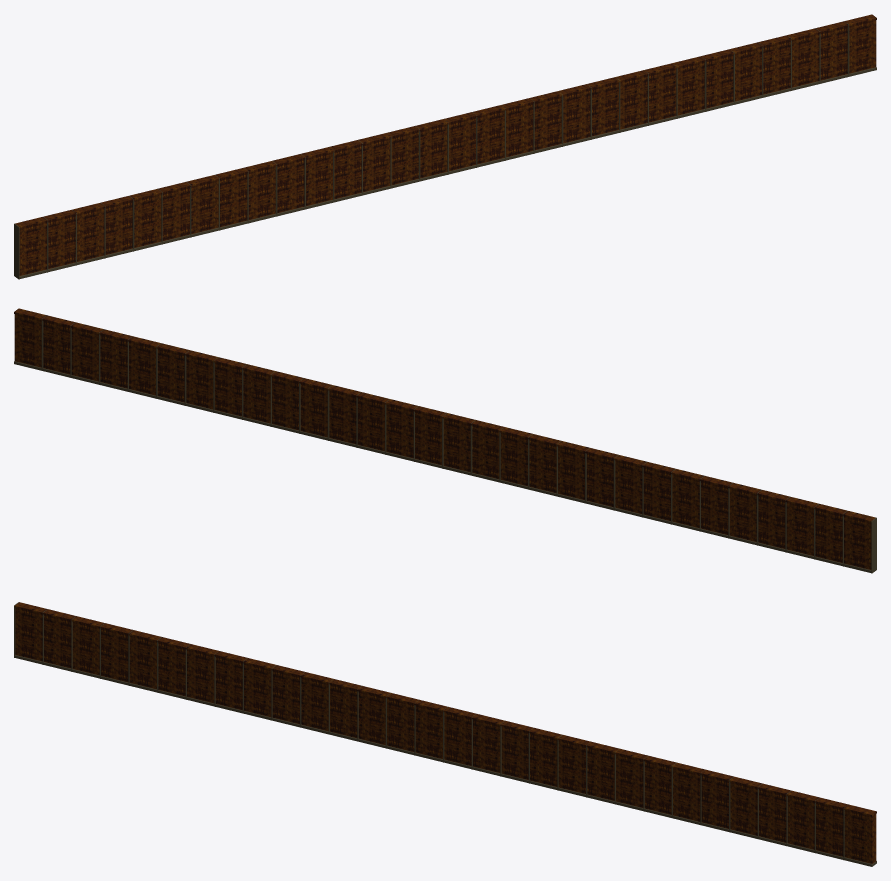
Rendered from phase_normal_gate.glb.
3 views of the same model, one above another, from view 1: azimuth 30°, elevation 25°; view 2: azimuth 150°, elevation 25°; view 3: azimuth 330°, elevation 25° (orthographic).
Parts seen in each view (by area): view 1: PHASE_top_rail, PHASE_concrete_sill, PHASE_rusted_panel.021, PHASE_rusted_panel.023, PHASE_rusted_panel.024, PHASE_rusted_panel.001, PHASE_rusted_panel.002, PHASE_rusted_panel.004, PHASE_rusted_panel.005, PHASE_rusted_panel.007, PHASE_rusted_panel.008, PHASE_rusted_panel.011 (+20 smaller); view 2: PHASE_top_rail, PHASE_concrete_sill, PHASE_rusted_panel.021, PHASE_rusted_panel.023, PHASE_rusted_panel.024, PHASE_rusted_panel.001, PHASE_rusted_panel.002, PHASE_rusted_panel.004, PHASE_rusted_panel.005, PHASE_rusted_panel.007, PHASE_rusted_panel.008, PHASE_rusted_panel.011 (+20 smaller); view 3: PHASE_top_rail, PHASE_concrete_sill, PHASE_rusted_panel.029, PHASE_rusted_panel.020, PHASE_rusted_panel.022, PHASE_rusted_panel.023, PHASE_rusted_panel, PHASE_rusted_panel.001, PHASE_rusted_panel.003, PHASE_rusted_panel.004, PHASE_rusted_panel.005, PHASE_rusted_panel.006 (+20 smaller).
Part boxes in pixels (x1,y1,x2,y2): PHASE_top_rail: [15, 14, 876, 228]; PHASE_concrete_sill: [19, 67, 876, 278]; PHASE_rusted_panel.021: [620, 76, 647, 129]; PHASE_rusted_panel.023: [677, 62, 704, 115]; PHASE_rusted_panel.024: [706, 55, 733, 108]; PHASE_rusted_panel.001: [48, 215, 75, 268]; PHASE_rusted_panel.002: [77, 208, 104, 261]; PHASE_rusted_panel.004: [134, 194, 161, 247]; PHASE_rusted_panel.005: [162, 187, 189, 240]; PHASE_rusted_panel.007: [220, 173, 247, 227]; PHASE_rusted_panel.008: [248, 166, 275, 219]; PHASE_rusted_panel.011: [334, 145, 361, 199]; PHASE_top_rail: [14, 308, 875, 522]; PHASE_concrete_sill: [14, 361, 871, 572]; PHASE_rusted_panel.021: [243, 370, 270, 423]; PHASE_rusted_panel.023: [186, 356, 213, 409]; PHASE_rusted_panel.024: [157, 349, 184, 402]; PHASE_rusted_panel.001: [815, 509, 842, 562]; PHASE_rusted_panel.002: [786, 502, 813, 555]; PHASE_rusted_panel.004: [729, 488, 756, 541]; PHASE_rusted_panel.005: [701, 481, 728, 534]; PHASE_rusted_panel.007: [643, 467, 670, 521]; PHASE_rusted_panel.008: [615, 460, 642, 513]; PHASE_rusted_panel.011: [529, 439, 556, 493]; PHASE_top_rail: [14, 602, 876, 816]; PHASE_concrete_sill: [14, 655, 876, 866]; PHASE_rusted_panel.029: [844, 810, 876, 863]; PHASE_rusted_panel.020: [587, 747, 614, 800]; PHASE_rusted_panel.022: [644, 761, 671, 814]; PHASE_rusted_panel.023: [673, 768, 700, 821]; PHASE_rusted_panel: [15, 608, 42, 661]; PHASE_rusted_panel.001: [44, 615, 71, 668]; PHASE_rusted_panel.003: [101, 629, 128, 682]; PHASE_rusted_panel.004: [129, 636, 156, 689]; PHASE_rusted_panel.005: [158, 642, 185, 696]; PHASE_rusted_panel.006: [187, 649, 214, 703].
Size of the model in its own units: 60.02 by 3.5 by 0.6.
2 materials, 2 textured.
